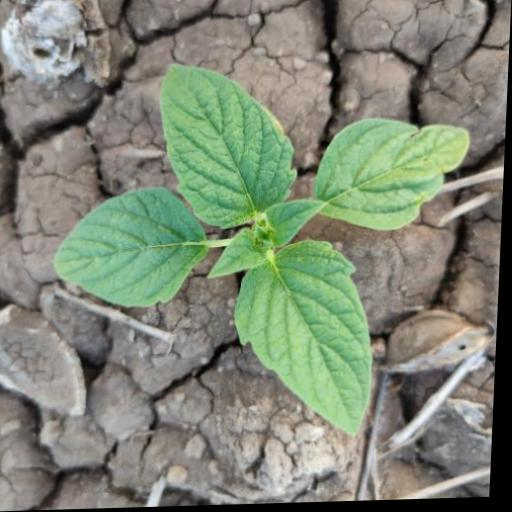crop: (38, 62, 476, 431)
